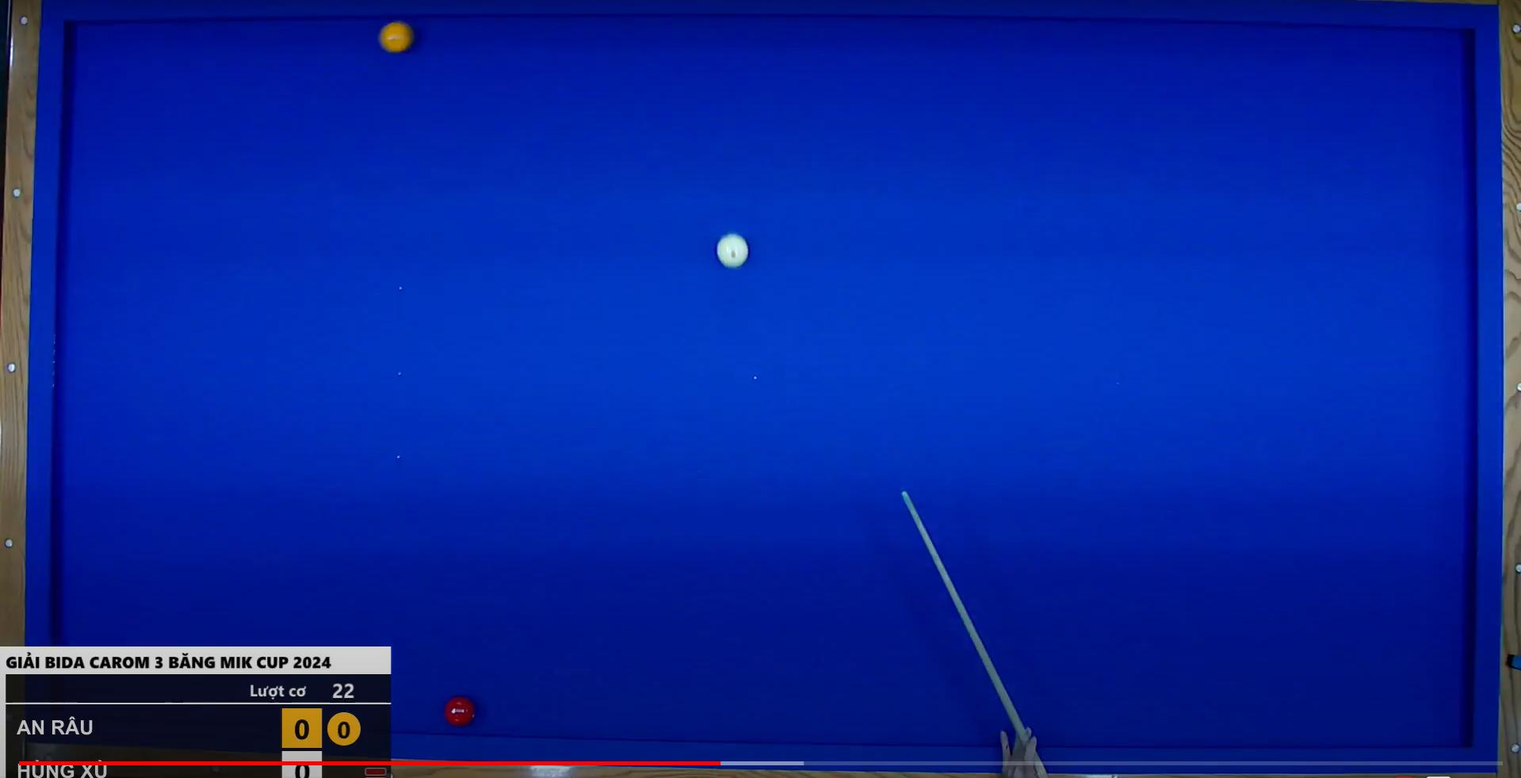red ball: (435, 691, 483, 736)
white ball: (715, 221, 756, 277)
yellow ball: (367, 20, 421, 56)
